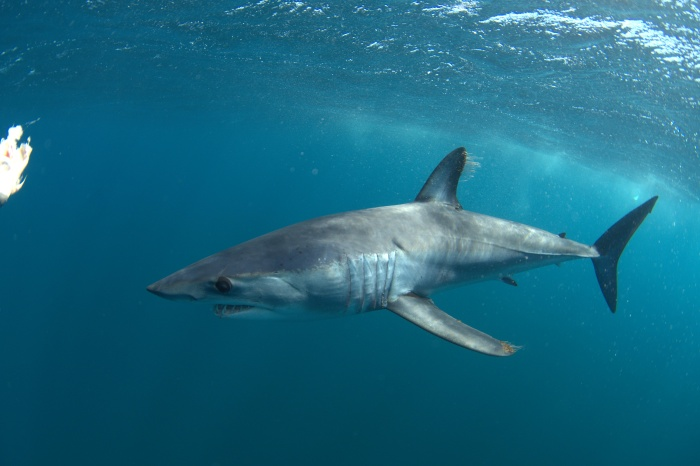Mako: (139, 141, 667, 364)
